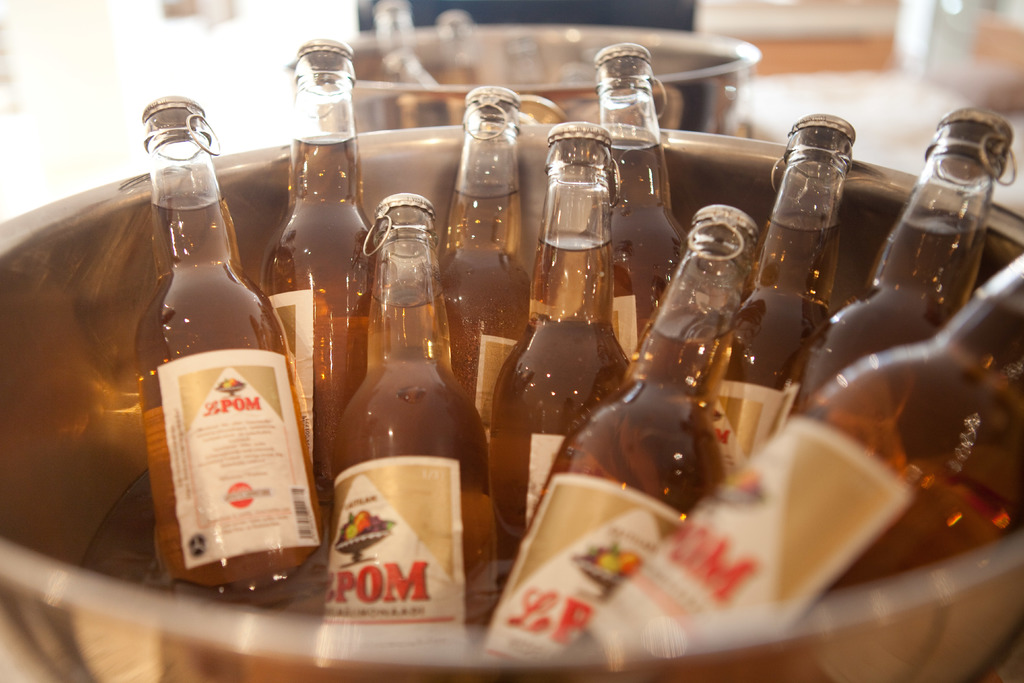Beer: (116, 28, 1023, 661)
